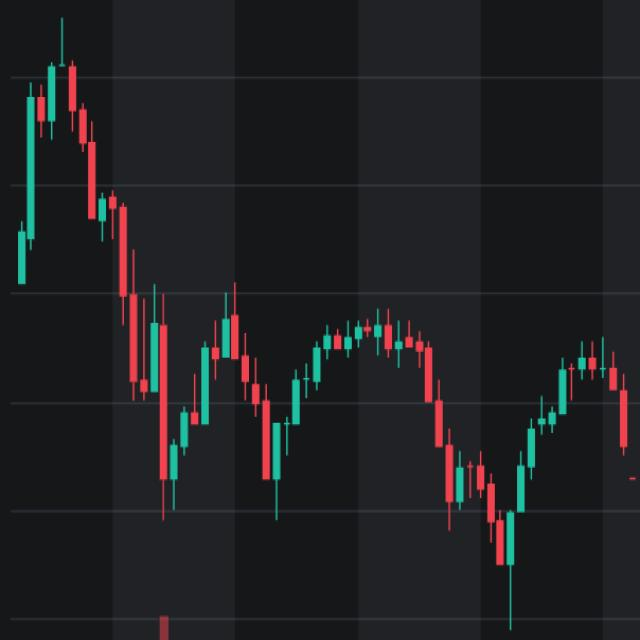Resistance-Emerging: (168, 300, 634, 583)
